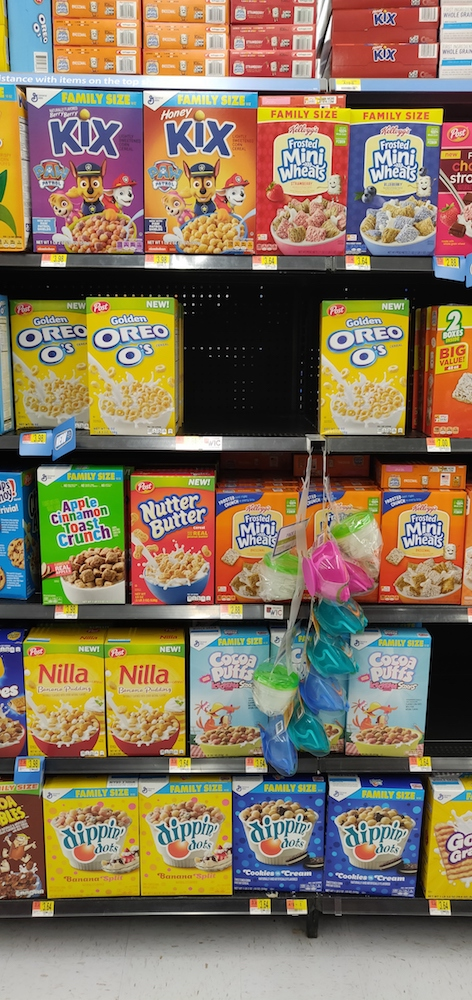Cocoa Pebbles-555517893: (351, 636, 428, 759), (190, 635, 253, 749)
Dippin Dots Banana-568929376: (134, 784, 233, 900), (44, 788, 147, 897)
Dippin Dots Cookies & Cream -568929378: (327, 785, 424, 894), (233, 783, 328, 889)
Kix Berry -568919964: (22, 89, 145, 252)
Kix Honey -009258981: (141, 88, 260, 261)
Mini Wheats Straw-567084832: (259, 104, 348, 253)
Nilla -568301014: (25, 636, 110, 747), (102, 641, 186, 751)
Nutter Butter-565717511: (133, 472, 215, 600)
Oreo Golden-568301011: (81, 296, 177, 433), (325, 301, 407, 436), (21, 299, 90, 425)
